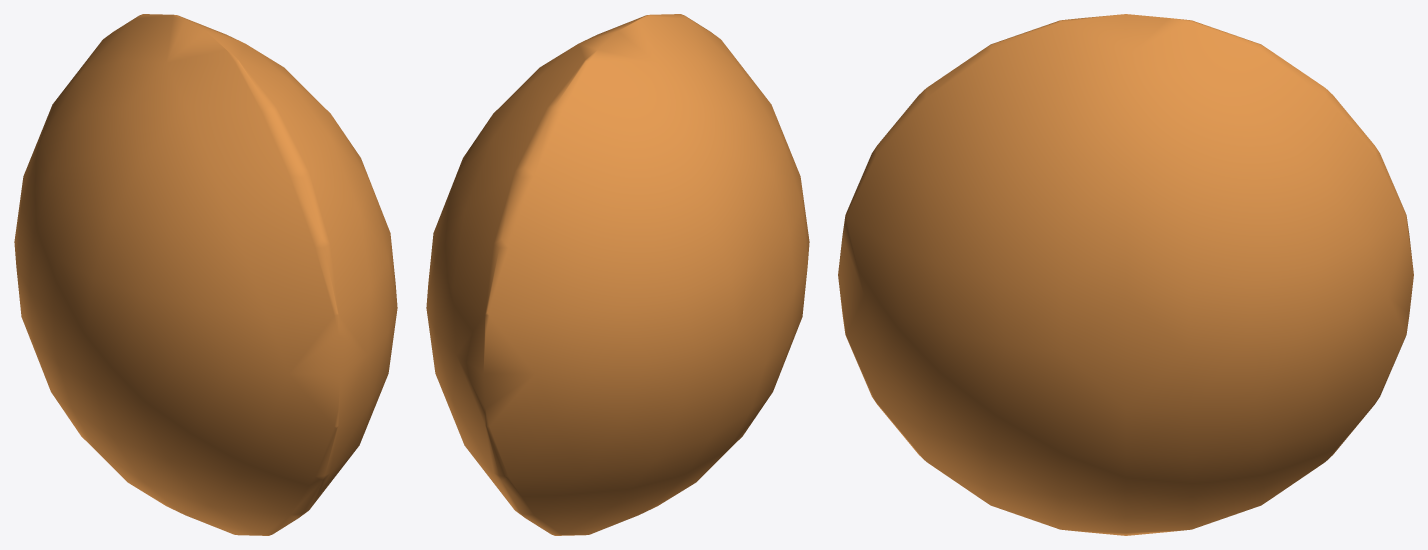
Rendered from expected.gltf.
3 renders of one model, left to right at view 1: azimuth 30°, elevation 25°; view 2: azimuth 150°, elevation 25°; view 3: azimuth 270°, elevation 25°, orthographic. The views are drawn at different scales.
Bounding box in the file's own units: 12 × 18.29 × 18.29.
